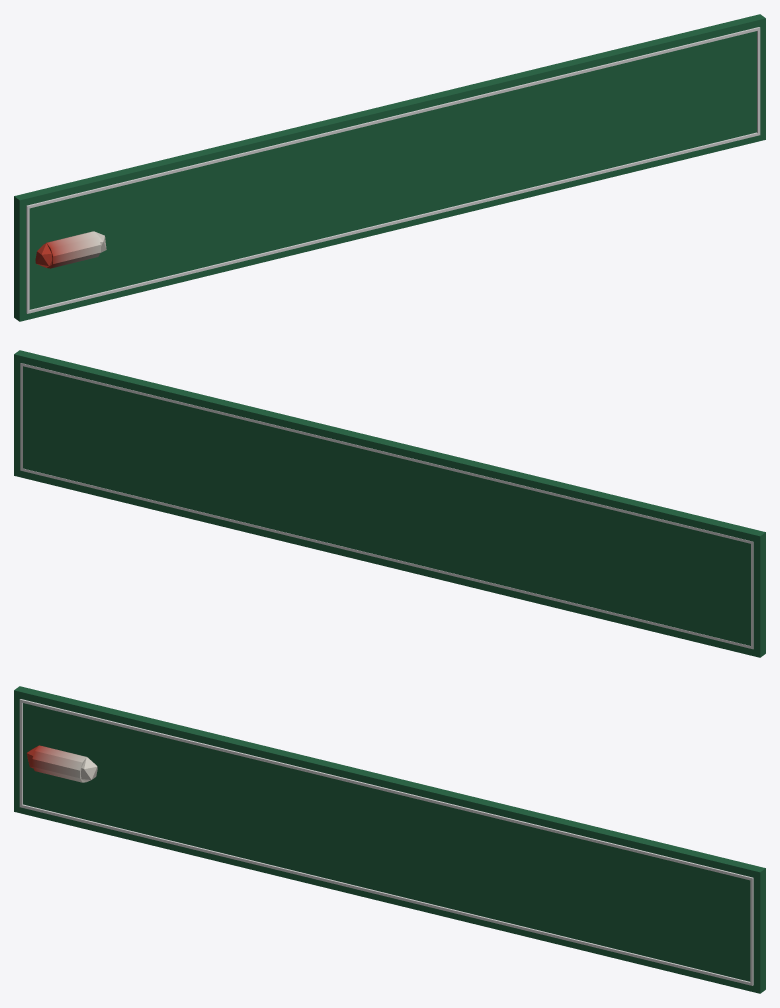
The model's file is bang_quay_thuoc_hanh_phuc_48.glb.
3 views of the same model, one above another, from view 1: azimuth 30°, elevation 25°; view 2: azimuth 150°, elevation 25°; view 3: azimuth 330°, elevation 25° (orthographic).
Visible parts, largest first — view 1: bang_quay_thuoc_hanh_phuc_48; view 2: bang_quay_thuoc_hanh_phuc_48; view 3: bang_quay_thuoc_hanh_phuc_48.
Boxes of the visible parts, box(x1,y1,x2,y2) form: bang_quay_thuoc_hanh_phuc_48: box(14, 14, 765, 321); bang_quay_thuoc_hanh_phuc_48: box(14, 350, 765, 657); bang_quay_thuoc_hanh_phuc_48: box(14, 686, 765, 993).
Bounding box in the file's own units: 4.5 × 0.7 × 0.1405.
